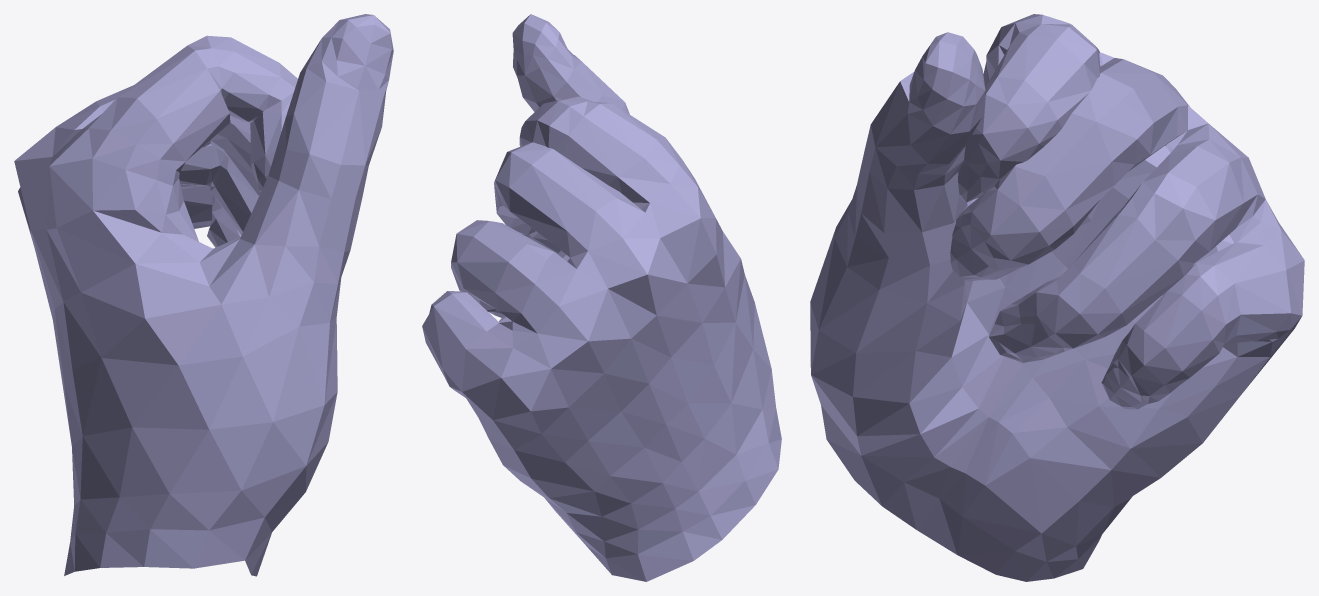
Rendered from frame_0010_source_000010_hand.glb.
3 renders of one model, left to right at view 1: azimuth 30°, elevation 25°; view 2: azimuth 150°, elevation 25°; view 3: azimuth 270°, elevation 25°, orthographic. The views are drawn at different scales.
Parts seen in each view (by area): view 1: world; view 2: world; view 3: world.
Boxes of the visible parts, box(x1,y1,x2,y2) form: world: box(14, 14, 393, 576); world: box(422, 14, 781, 581); world: box(810, 14, 1304, 581).
Bounding box in the file's own units: 0.0673 × 0.1231 × 0.09.
